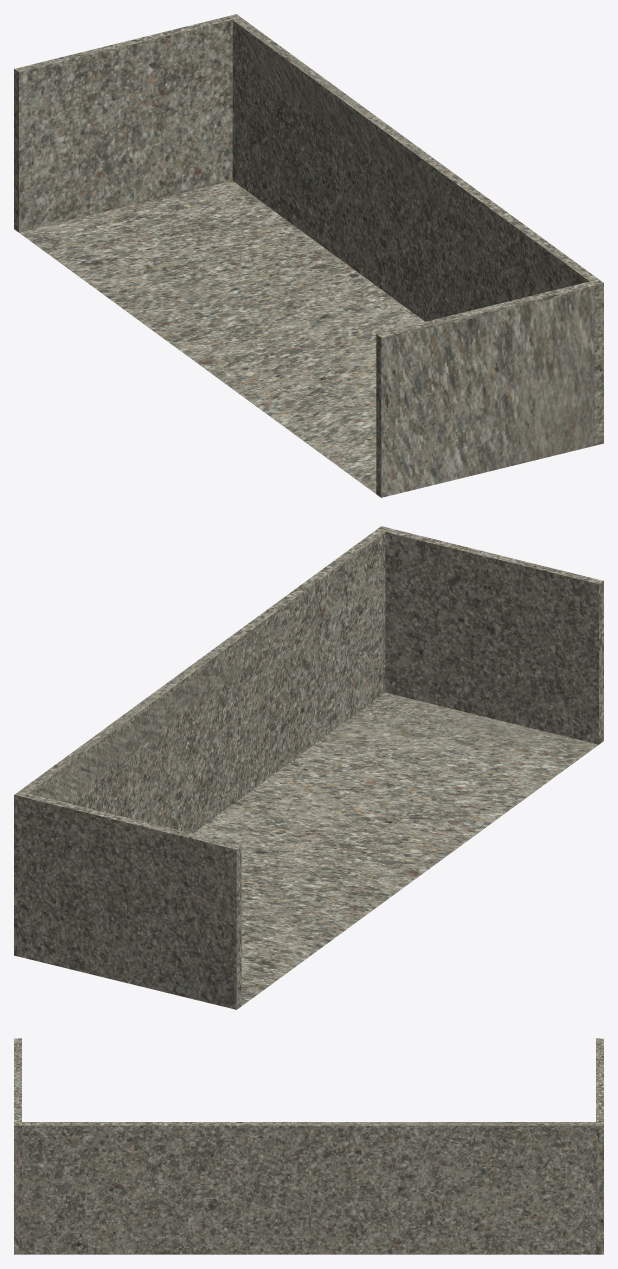
Rendered from balcony.glb.
The picture shows the model from 3 angles, top to bottom: view 1: azimuth 30°, elevation 25°; view 2: azimuth 150°, elevation 25°; view 3: azimuth 270°, elevation 25°; orthographic projection. The views are drawn at different scales.
Parts seen in each view (by area): view 1: Balcony; view 2: Balcony; view 3: Balcony.
Boxes of the visible parts, <box> form: Balcony: <box>14,14,603,497</box>; Balcony: <box>14,526,603,1009</box>; Balcony: <box>14,1038,603,1254</box>.
Size of what is drawn, in the model's own units: 2.18 by 1.51 by 6.24.
Materials: 1 (1 with a texture image).
